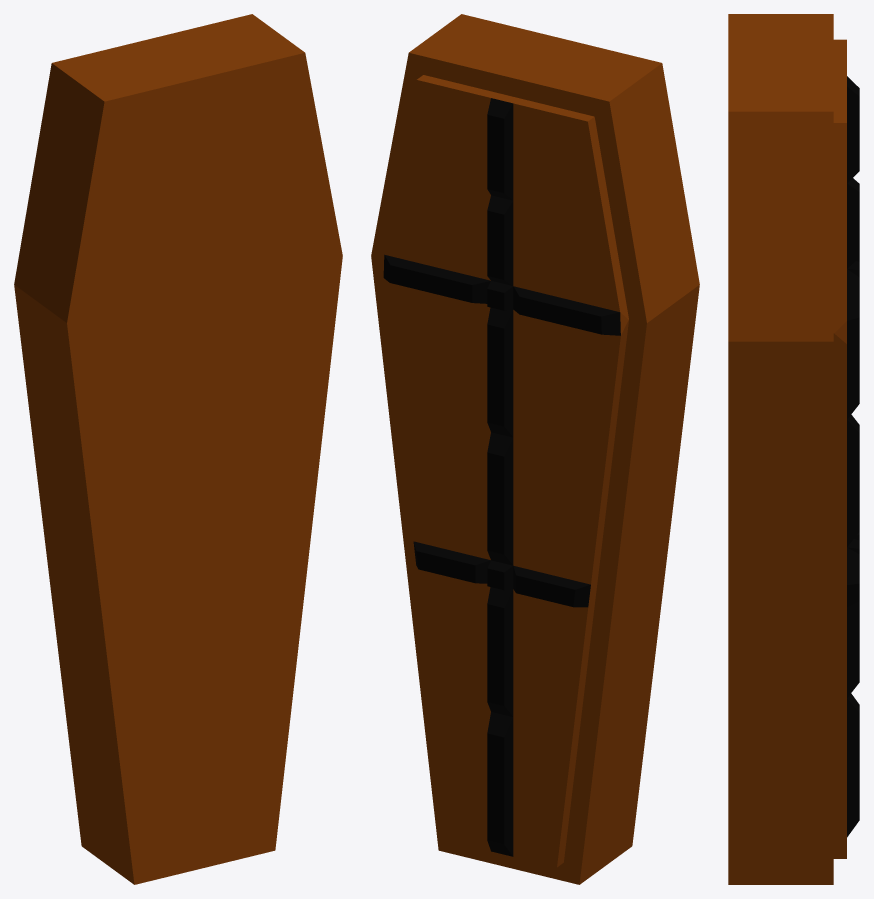
Rendered from coffin.fbx.
3 views of the same model, side by side, from view 1: azimuth 30°, elevation 25°; view 2: azimuth 150°, elevation 25°; view 3: azimuth 270°, elevation 25° (orthographic).
Parts seen in each view (by area): view 1: coffin; view 2: coffindoor, coffin; view 3: coffin, coffindoor.
Boxes of the visible parts, left/top/right/bottom form: coffin: left=14, top=14, right=342, bottom=884; coffindoor: left=383, top=75, right=628, bottom=867; coffin: left=371, top=14, right=699, bottom=884; coffin: left=728, top=14, right=833, bottom=884; coffindoor: left=833, top=39, right=859, bottom=858.
Bounding box in the file's own units: 35.28 × 96.6 × 14.63.
